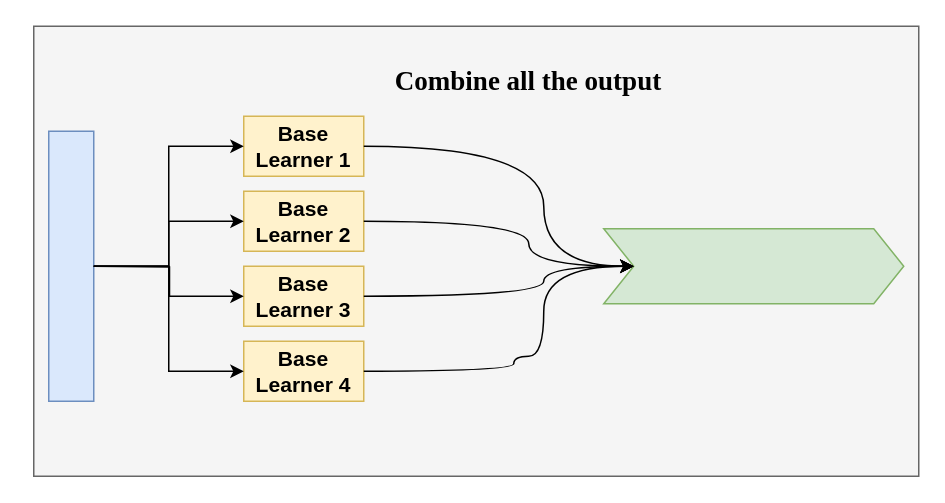
The diagram is 945 pixels wide and 503 high, and some of its shapes have lost their labels. Each missing label, with the centre of its shape:
"Final Decision/ Output" goes at point (753, 265).
"Training Data" goes at point (70, 265).
